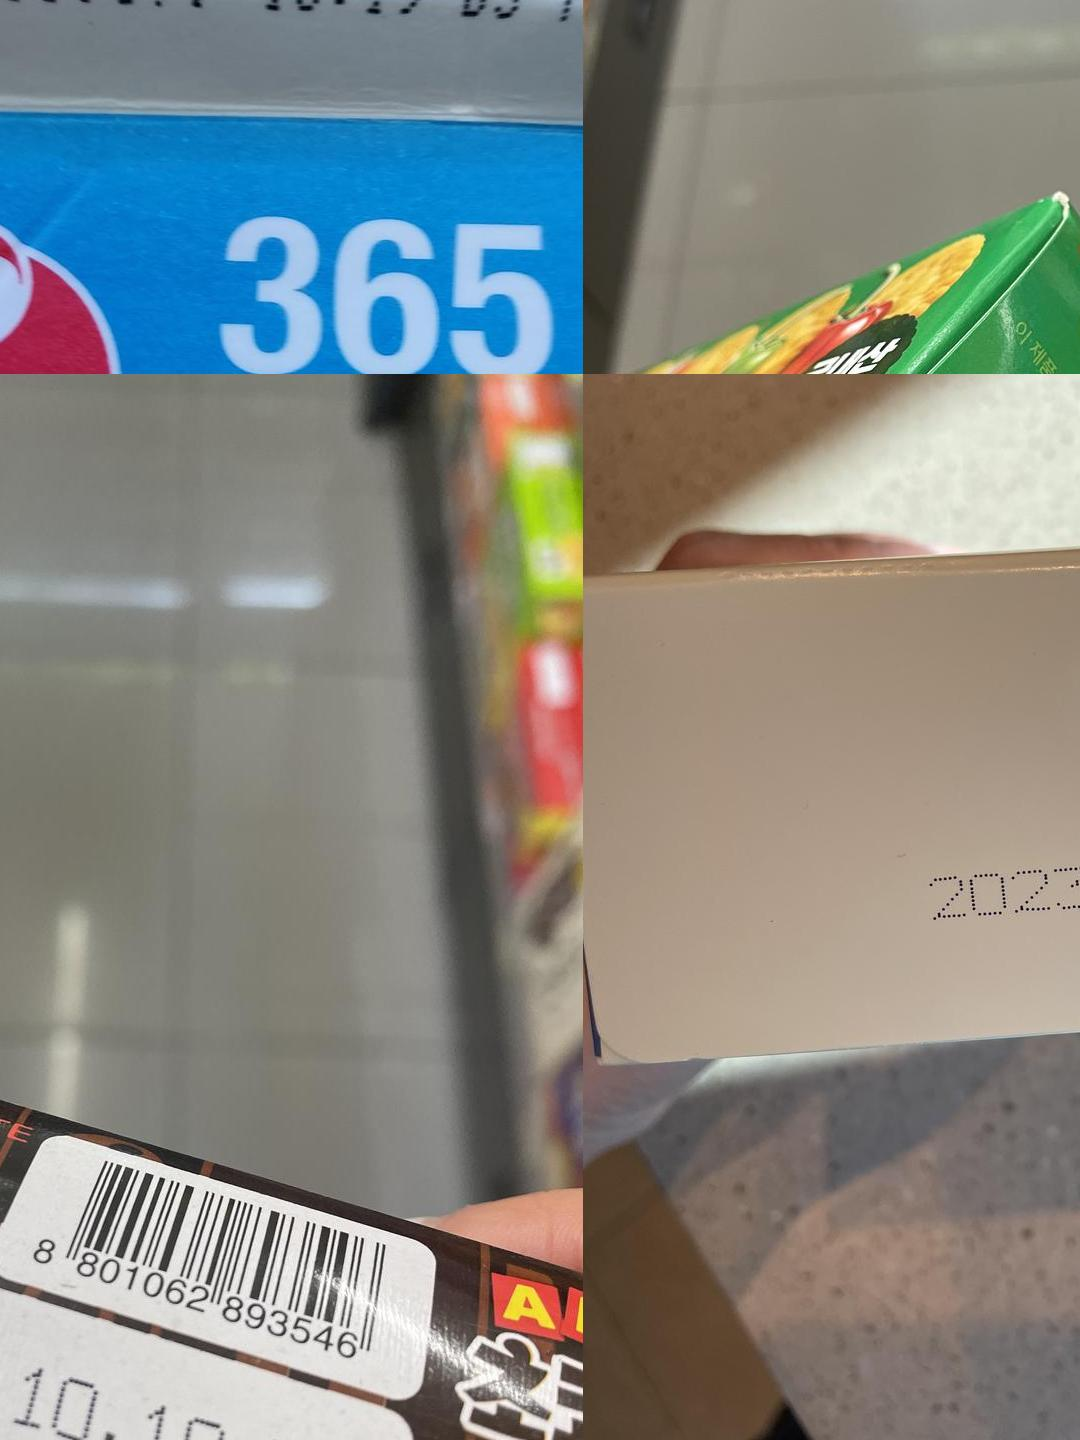milk: (0, 0, 583, 139), (0, 0, 571, 87)
snack food: (0, 1244, 393, 1440), (896, 830, 1080, 930)
